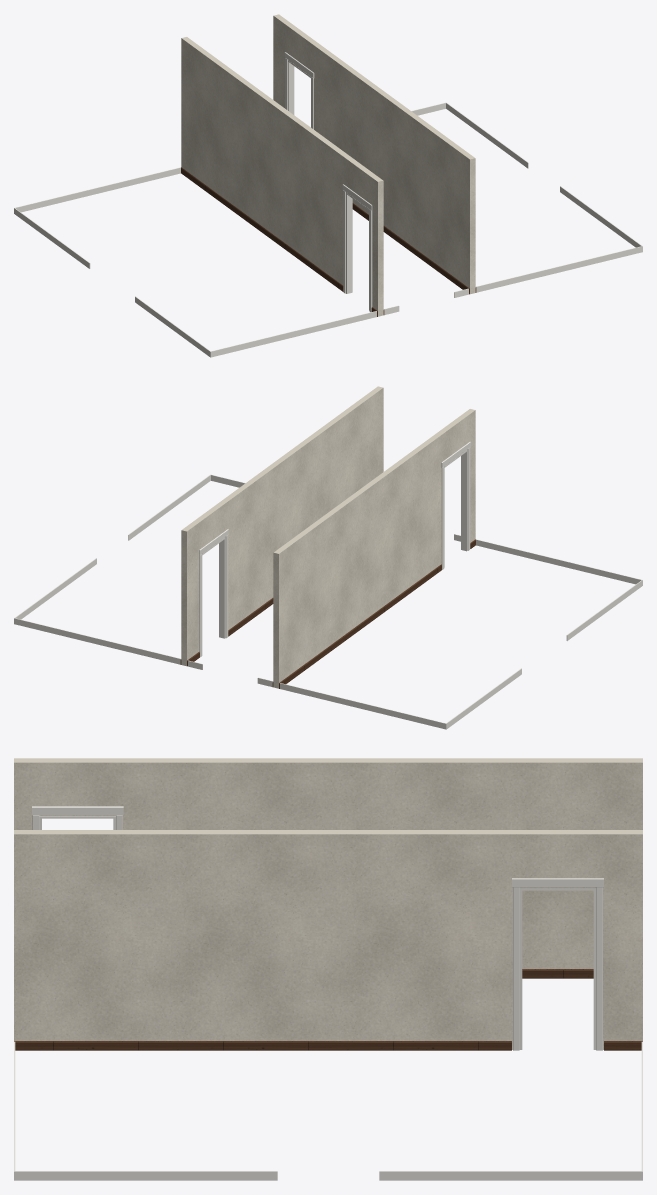
Rendered from plan0.glb.
The picture shows the model from 3 angles, top to bottom: view 1: azimuth 30°, elevation 25°; view 2: azimuth 150°, elevation 25°; view 3: azimuth 270°, elevation 25°; orthographic projection. The views are drawn at different scales.
Visible parts, largest first — view 1: plan0_plaster, plan0_trim, plan0_frame, plan0_dkwood; view 2: plan0_plaster, plan0_trim, plan0_frame, plan0_dkwood; view 3: plan0_plaster, plan0_dkwood, plan0_trim, plan0_frame.
Part boxes in pixels (x1,y1,x2,y2): plan0_plaster: (181, 14, 475, 316); plan0_trim: (14, 102, 642, 357); plan0_frame: (284, 52, 372, 312); plan0_dkwood: (181, 167, 476, 316); plan0_plaster: (181, 386, 475, 688); plan0_trim: (14, 474, 642, 729); plan0_frame: (199, 441, 470, 657); plan0_dkwood: (180, 539, 475, 688); plan0_plaster: (14, 758, 642, 1049); plan0_dkwood: (14, 969, 642, 1050); plan0_trim: (14, 1041, 642, 1180); plan0_frame: (32, 806, 603, 1050).
Bounding box in the file's own units: 9.4 × 2.8 × 7.4.
Materials: 4 (2 with a texture image).
